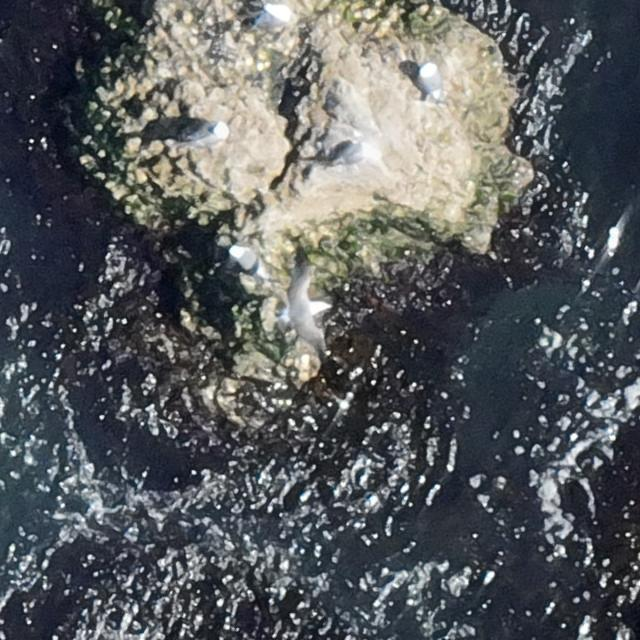F: (277, 270, 322, 346)
umineko: (180, 120, 229, 150), (321, 140, 372, 168), (249, 5, 287, 32), (230, 246, 258, 273), (418, 64, 439, 98)
